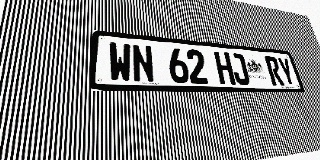2: (186, 49, 208, 84)
6: (167, 47, 190, 84)
H: (214, 51, 236, 85)
J: (229, 53, 251, 85)
N: (131, 44, 155, 83)
R: (264, 56, 285, 86)
W: (108, 42, 132, 82)
Y: (276, 57, 297, 86)
